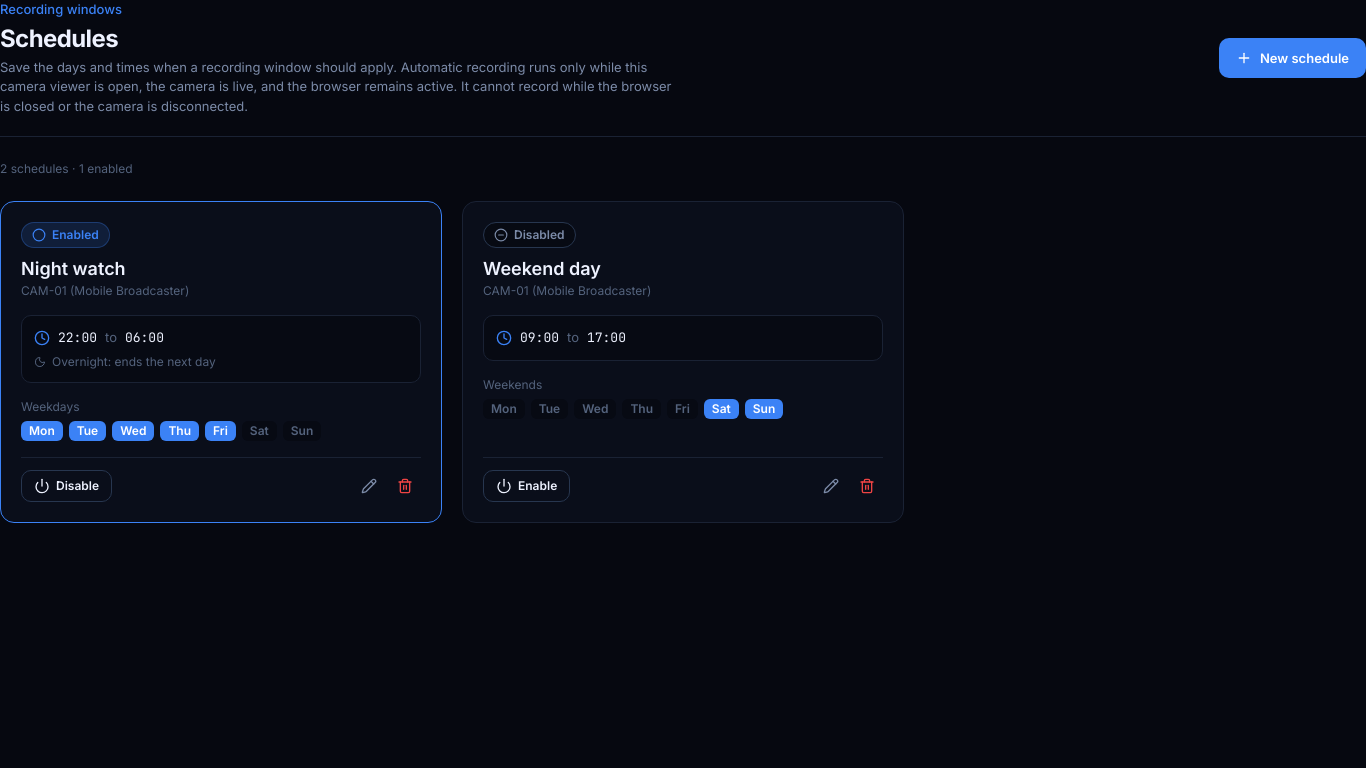
Test case: ScheduleManager › keeps the schedule and shows the failure when delete fails
The image size is (1366, 768).
Expected: the heading "Night watch" is shown, [21,258,126,279]
Click the button named "Delete schedule Night watch": (405, 486) [389,470,421,502]
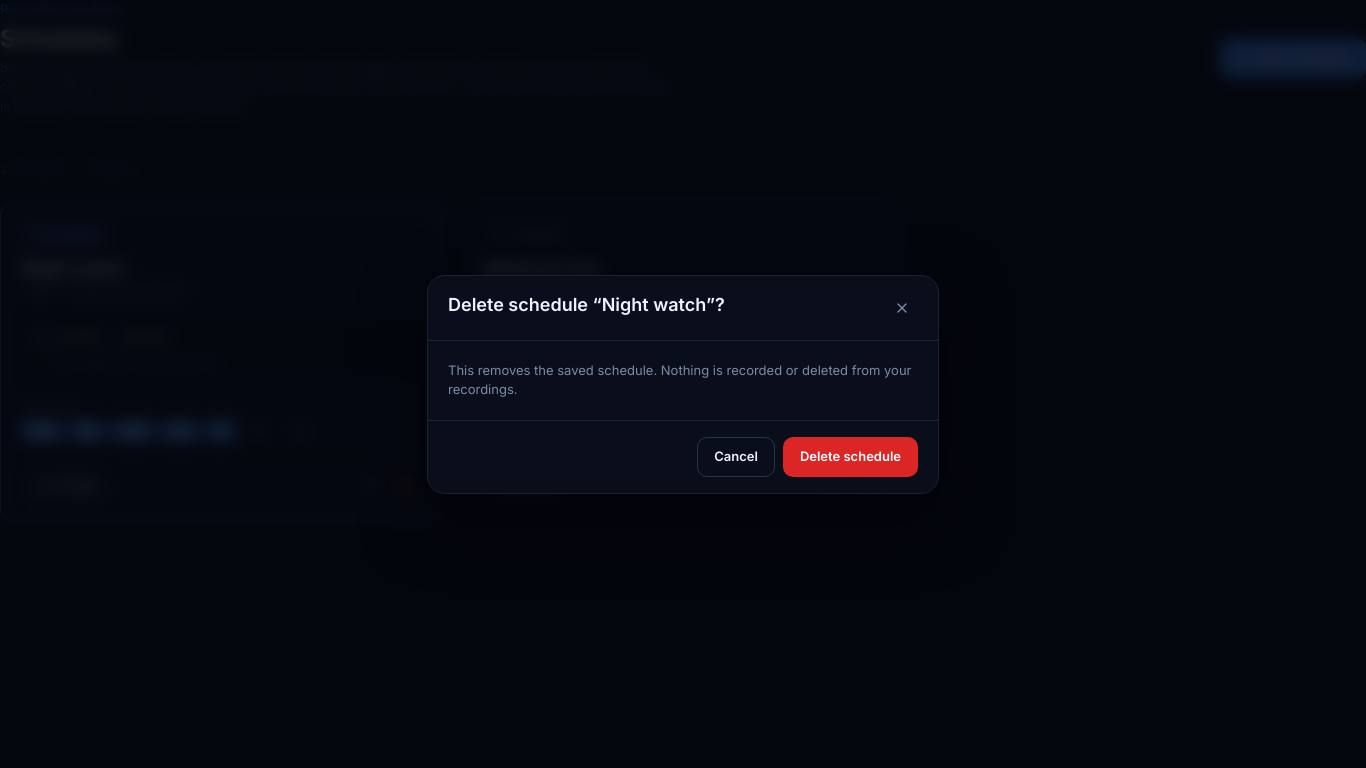
Click the button "Delete schedule": (850, 456) [783,436,918,476]
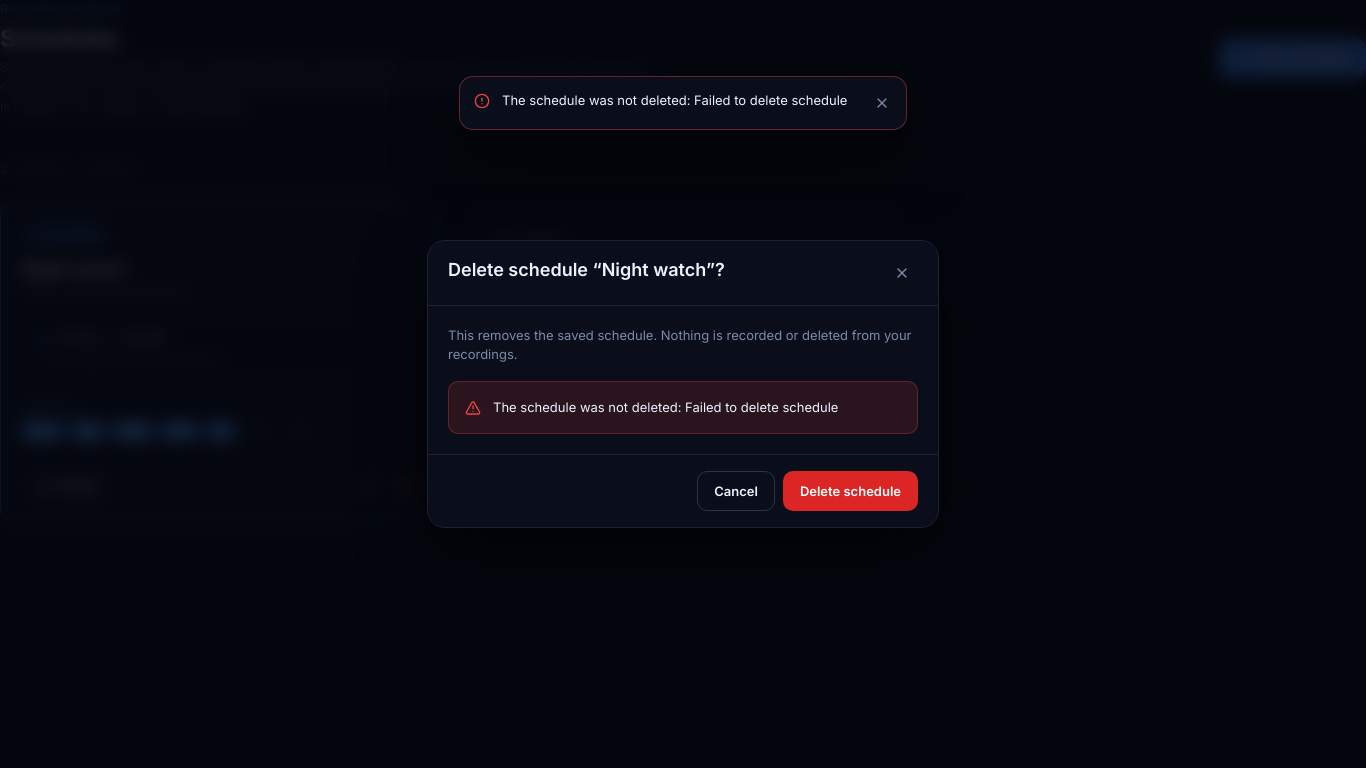
Result: the 1st text "The schedule was not deleted: Failed to delete schedule" is shown at [502,91,854,110]
